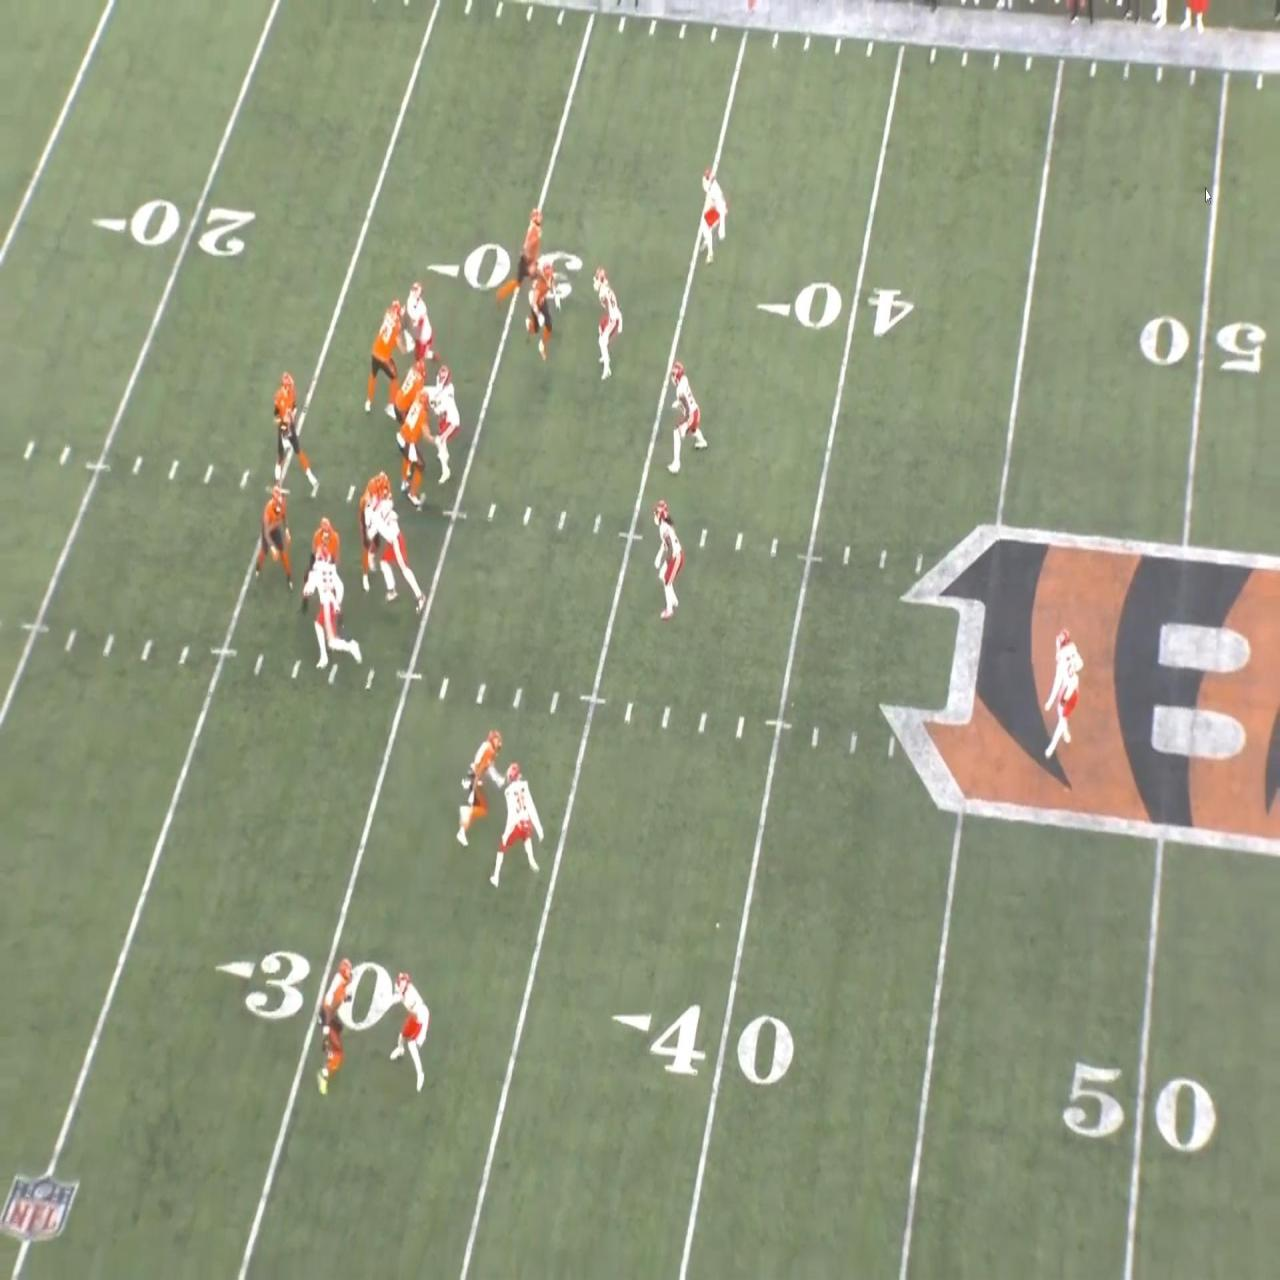20L: (91, 197, 257, 259)
30L: (216, 948, 394, 1029), (424, 238, 585, 302)
40L: (611, 999, 794, 1089), (754, 278, 914, 339)
50: (1062, 1056, 1219, 1151), (1138, 314, 1268, 375)
